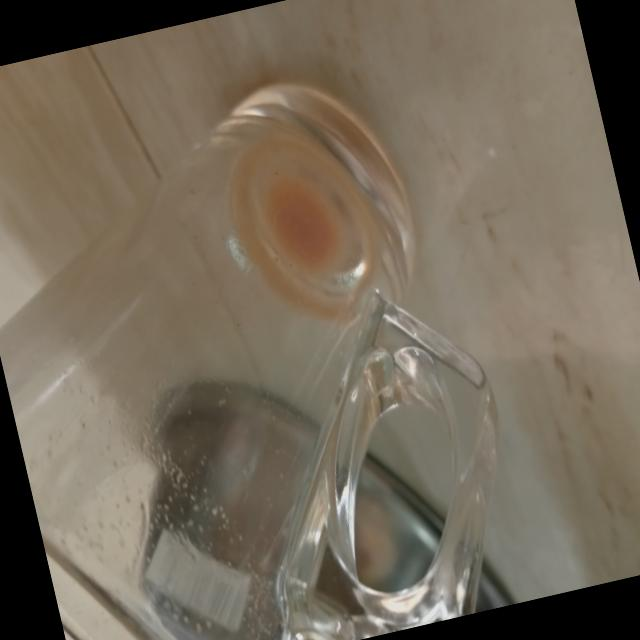glass-VX4N: (0, 42, 541, 640)
